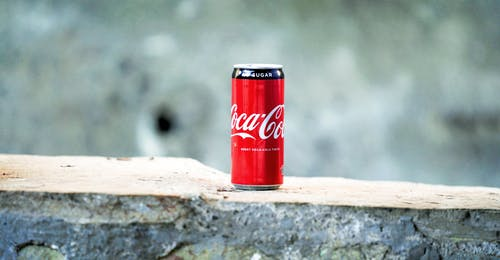coke: (231, 63, 284, 191)
